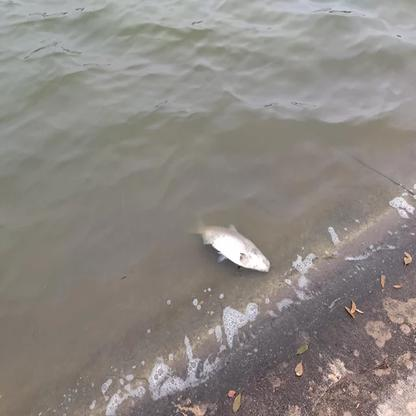deceased fish: (184, 214, 273, 276)
